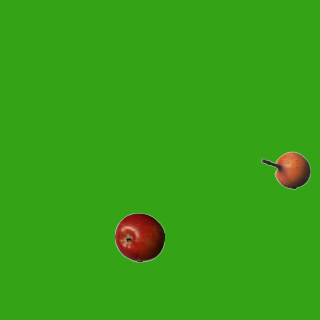Apple Braeburn: (114, 212, 164, 262)
Granadilla: (260, 145, 310, 195)
